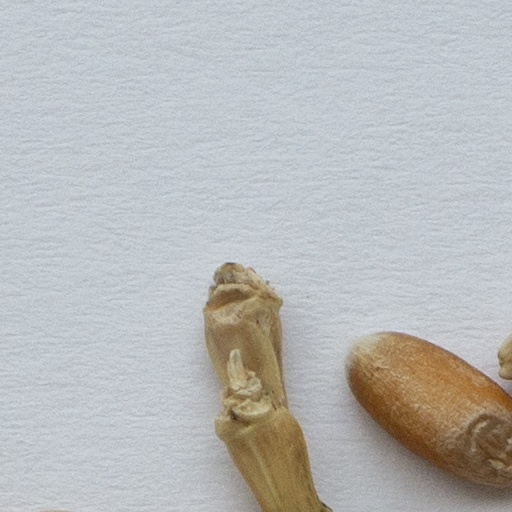Peel-poly: (205, 263, 326, 511)
